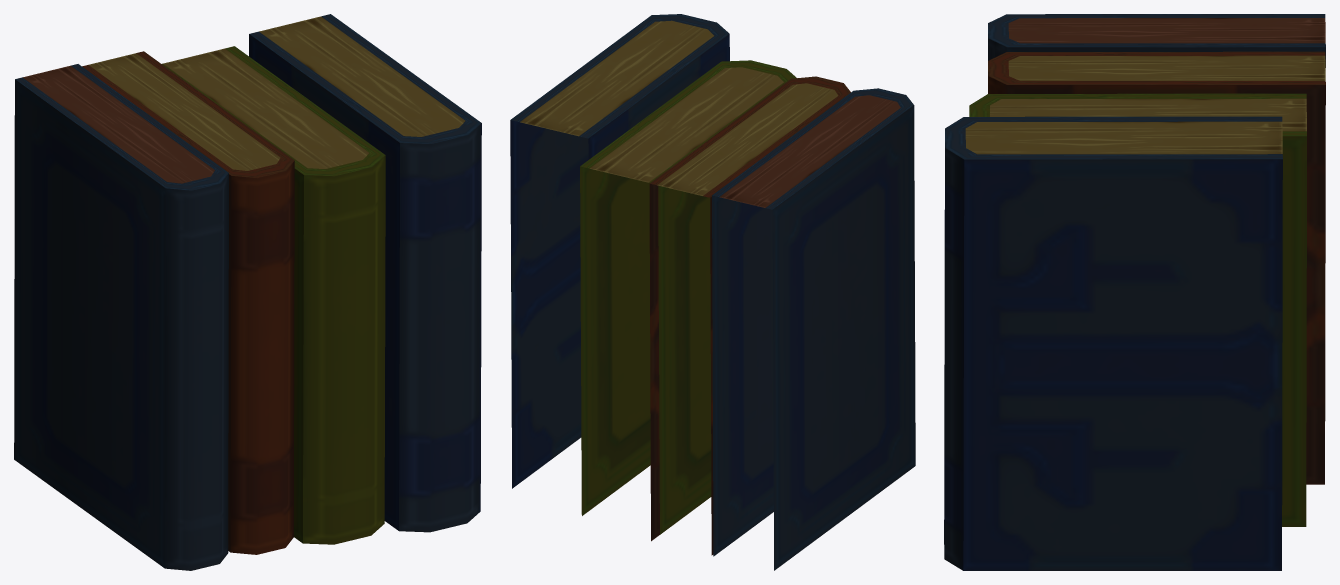
The model's file is book_group_small_2.glb.
3 views of the same model, side by side, from view 1: azimuth 30°, elevation 25°; view 2: azimuth 150°, elevation 25°; view 3: azimuth 270°, elevation 25° (orthographic). The views are drawn at different scales.
Parts seen in each view (by area): view 1: BookGroup_Small_2; view 2: BookGroup_Small_2; view 3: BookGroup_Small_2.
Boxes of the visible parts, x1=… form: BookGroup_Small_2: x1=14, y1=14, x2=481, y2=570; BookGroup_Small_2: x1=510, y1=14, x2=915, y2=570; BookGroup_Small_2: x1=944, y1=14, x2=1325, y2=570.
Bounding box in the file's own units: 0.2276 × 0.2831 × 0.2372.
Materials: 1 (1 with a texture image).
